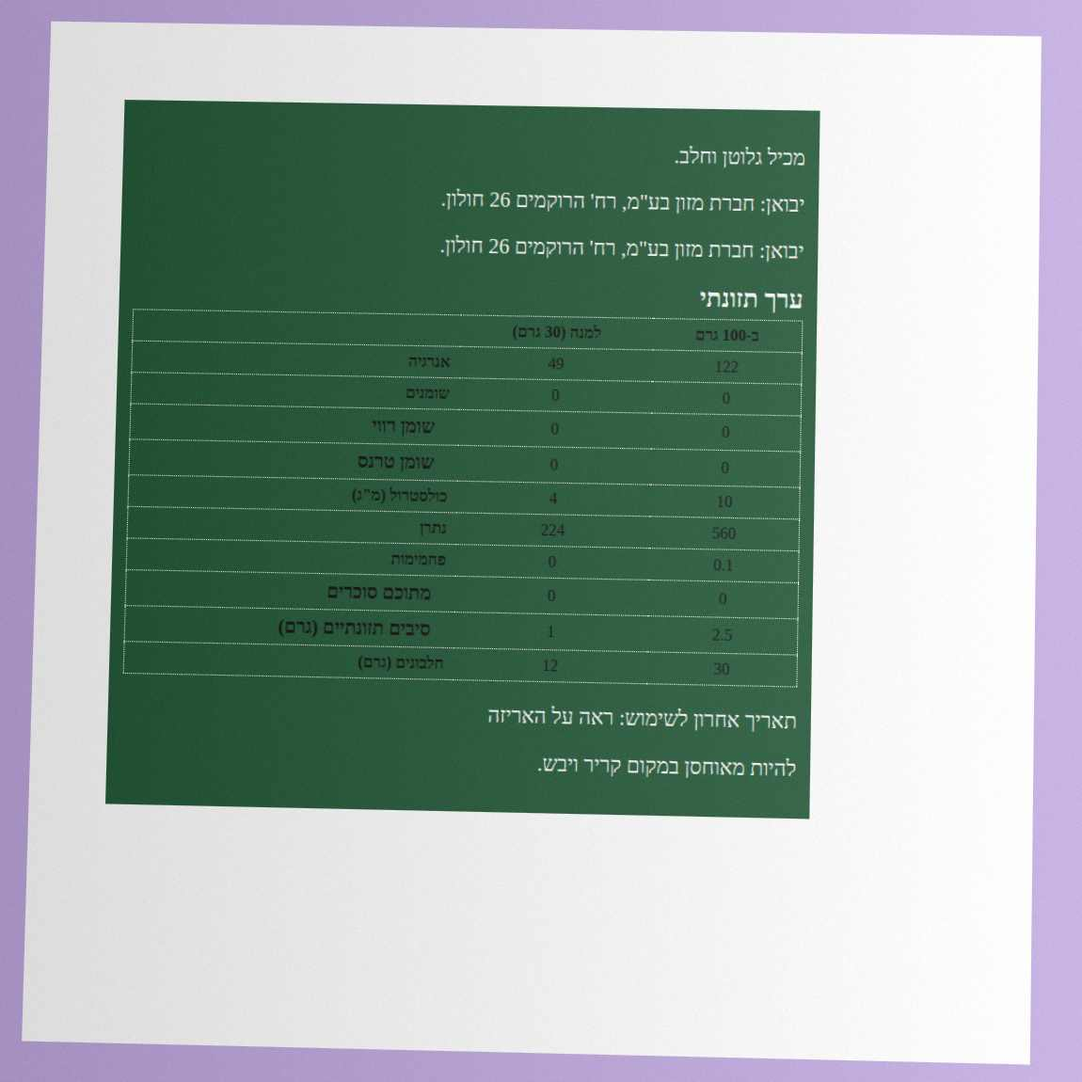carbs: (711, 554, 736, 576)
energy: (712, 356, 741, 378)
fat: (720, 387, 732, 409)
protein: (711, 658, 732, 680)
